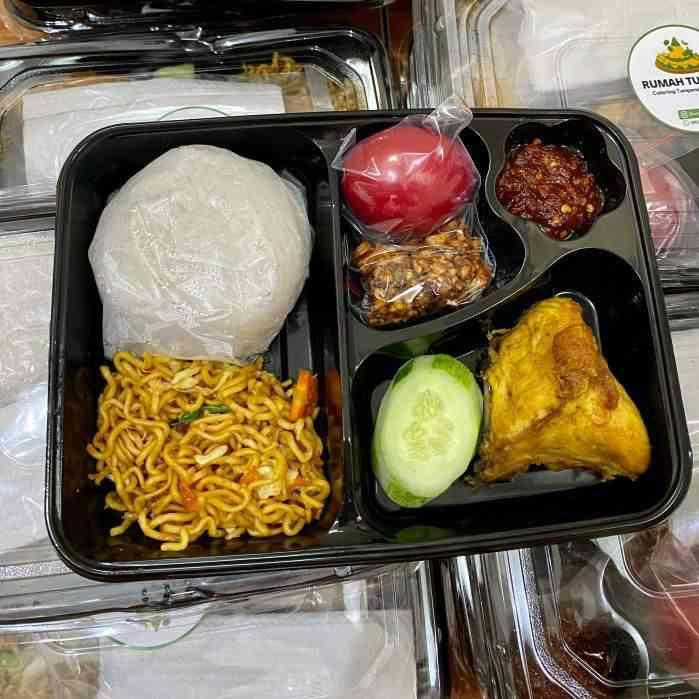buah_sayur_lainnya: (398, 374, 461, 475), (517, 154, 592, 203)
buah_sayur_vitA: (355, 151, 460, 204)
daging: (493, 345, 595, 448)
makanan_berpati: (135, 392, 305, 516), (145, 197, 269, 322)
